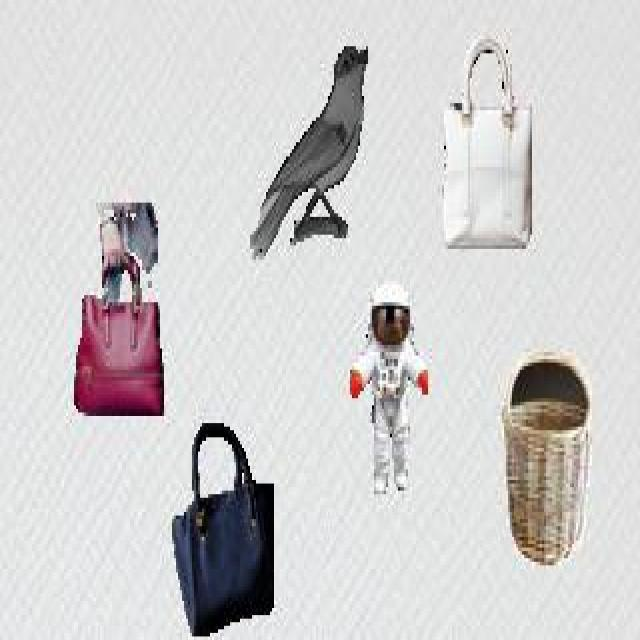Other Objects: (250, 44, 368, 260), (170, 422, 274, 637), (74, 199, 164, 417), (501, 350, 591, 568), (442, 34, 532, 250), (348, 280, 428, 496)
